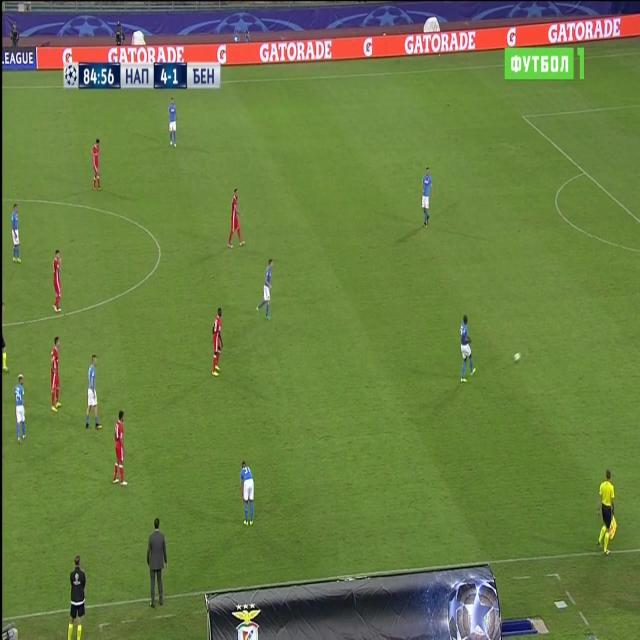Ball: (512, 349, 522, 365)
Player: (83, 350, 103, 434), (226, 184, 246, 252), (458, 312, 476, 385), (49, 334, 64, 417), (239, 458, 256, 529), (257, 256, 276, 318), (210, 305, 225, 380), (113, 407, 126, 490), (420, 164, 436, 230), (14, 374, 27, 448), (50, 247, 64, 315), (10, 202, 22, 268), (91, 135, 103, 197), (169, 95, 178, 151)
Referee: (594, 466, 621, 554)
